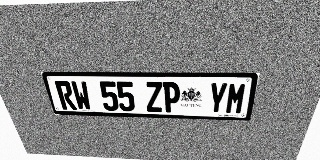5: (99, 81, 120, 111), (116, 81, 136, 111)
M: (225, 83, 248, 114)
P: (163, 82, 180, 113)
R: (54, 81, 77, 110)
W: (70, 81, 92, 110)
Y: (207, 82, 228, 114)
Z: (145, 82, 163, 112)
